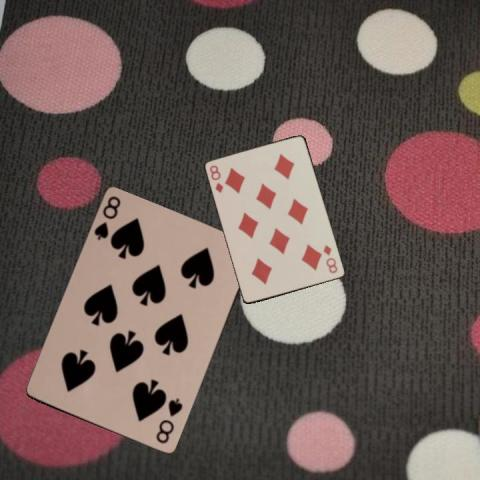8d: (321, 242, 339, 275), (206, 162, 224, 195)
8s: (152, 396, 184, 446), (91, 193, 123, 243)
